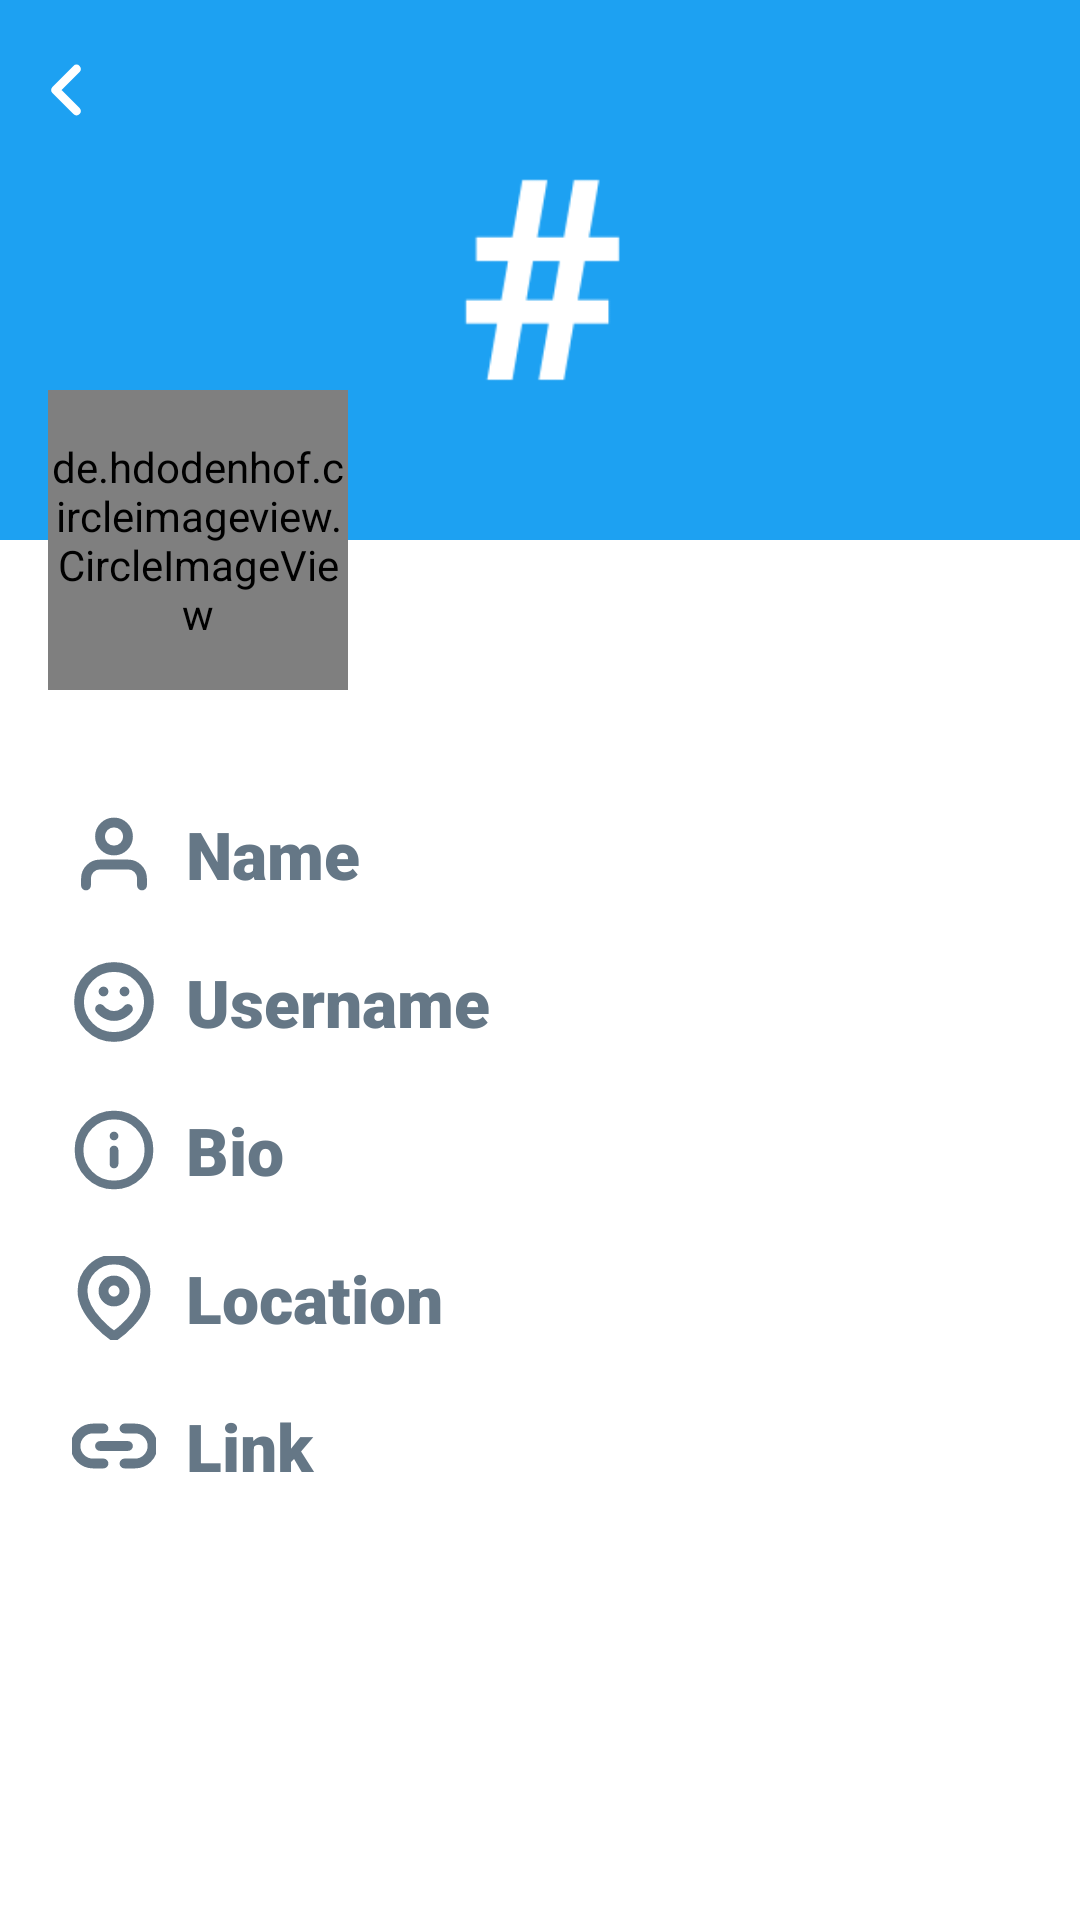

Icon bounding boxes for this 1080*1920 phone screenshot, format (x1, y1, x2, y2):
back: (51, 64, 81, 116)
info: (74, 1110, 154, 1190)
map pin: (77, 1256, 151, 1340)
smile: (74, 962, 154, 1042)
